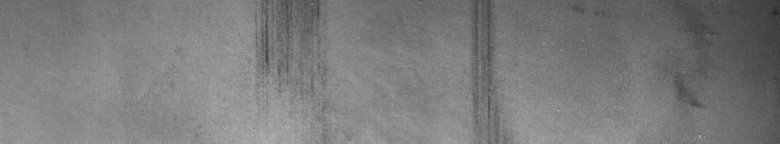ka: (256, 4, 323, 80)
